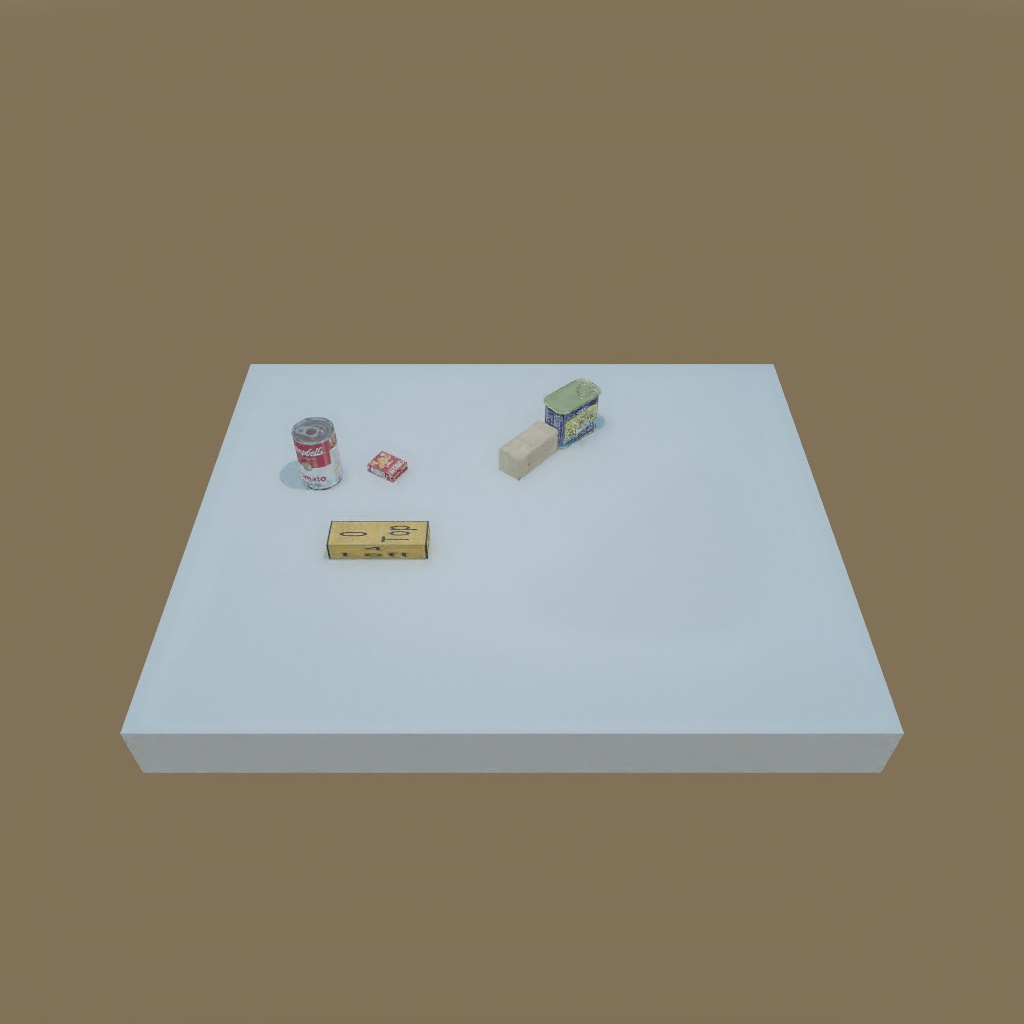jenga: (322, 516, 436, 564)
potted_meat_can: (544, 382, 601, 443)
tomato_soup_can: (286, 414, 345, 493)
wood_block: (494, 425, 561, 478)
